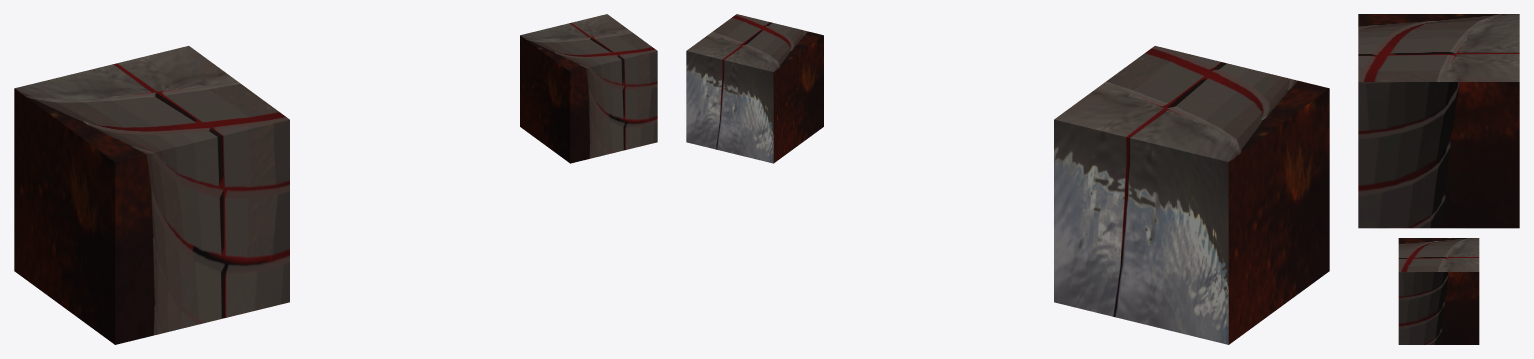
File: Bajskorven.obj
The picture shows the model from 3 angles, left to right: view 1: azimuth 30°, elevation 25°; view 2: azimuth 150°, elevation 25°; view 3: azimuth 270°, elevation 25°; orthographic projection. The views are drawn at different scales.
Parts seen in each view (by area): view 1: pCube1, pCube2; view 2: pCube1, pCube2; view 3: pCube1, pCube2.
Boxes of the visible parts, x1=… form: pCube1: x1=14, y1=46, x2=289, y2=344; pCube2: x1=520, y1=14, x2=657, y2=163; pCube1: x1=1054, y1=46, x2=1329, y2=344; pCube2: x1=686, y1=14, x2=823, y2=163; pCube1: x1=1358, y1=14, x2=1519, y2=228; pCube2: x1=1398, y1=238, x2=1479, y2=344.
Bounding box in the file's own units: 6.5 × 2 × 2.
Materials: 2 (2 with a texture image).
